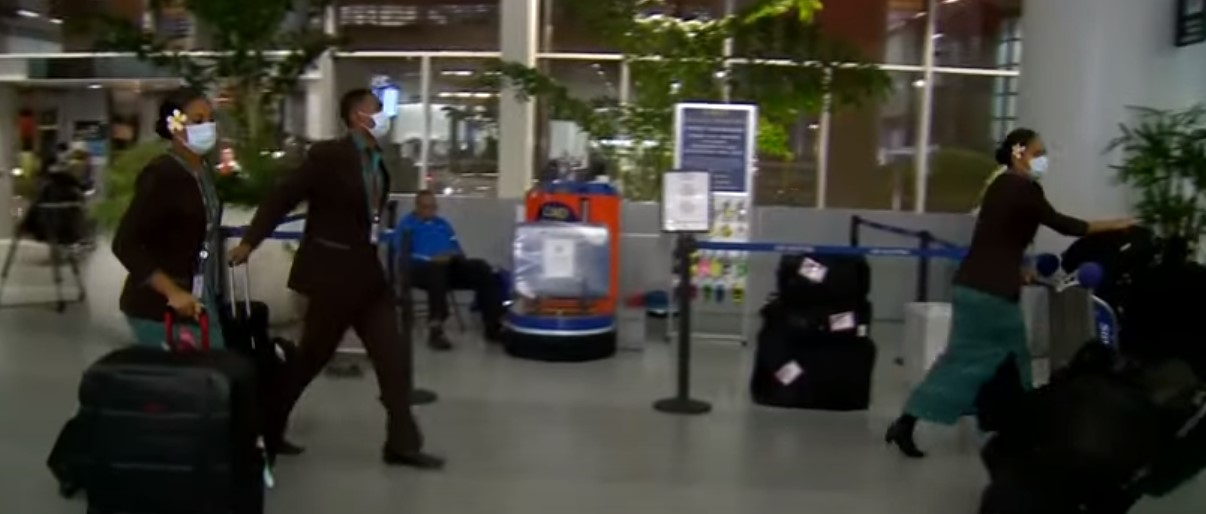face_with_mask: (159, 90, 219, 159), (1002, 132, 1052, 184), (342, 89, 391, 139)
